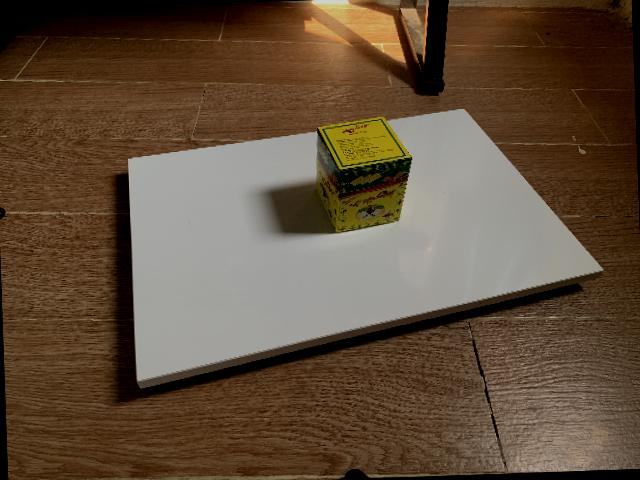luong_kho: (316, 117, 412, 234)
